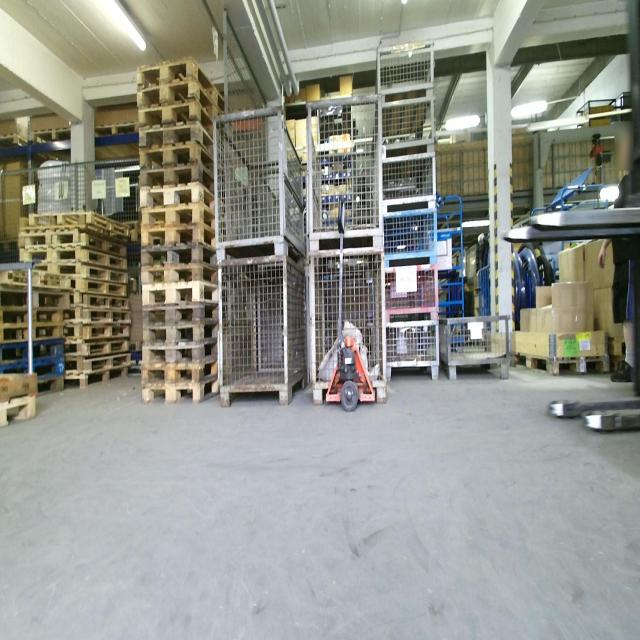pallet: (135, 55, 225, 108), (32, 204, 126, 253), (512, 348, 612, 381), (136, 74, 216, 112), (139, 121, 215, 155), (137, 105, 214, 136), (140, 142, 214, 172), (26, 249, 128, 270), (140, 378, 218, 405), (140, 338, 218, 365), (138, 166, 214, 192), (138, 185, 214, 210), (141, 281, 219, 305), (140, 360, 217, 384), (140, 203, 217, 227), (140, 245, 218, 268), (141, 323, 216, 345), (63, 368, 128, 392), (52, 265, 130, 285), (1, 390, 35, 432), (140, 227, 218, 245), (3, 339, 63, 362), (141, 305, 216, 323), (68, 320, 130, 339), (29, 121, 74, 147), (141, 268, 217, 283), (0, 309, 65, 326), (94, 119, 139, 141), (0, 326, 65, 341), (66, 340, 129, 355), (71, 295, 130, 311), (63, 355, 129, 368), (71, 280, 129, 294), (3, 362, 65, 375), (70, 310, 130, 323), (1, 132, 29, 154), (36, 375, 65, 396), (606, 341, 637, 358)
pallet_truck: (498, 2, 639, 439), (322, 194, 378, 414)
stillage: (217, 249, 314, 413), (215, 102, 307, 266), (303, 248, 389, 407), (306, 88, 384, 254), (438, 315, 509, 378), (376, 37, 436, 105), (378, 96, 437, 160), (378, 151, 437, 211), (384, 263, 441, 324), (386, 320, 440, 384), (377, 211, 440, 261)
